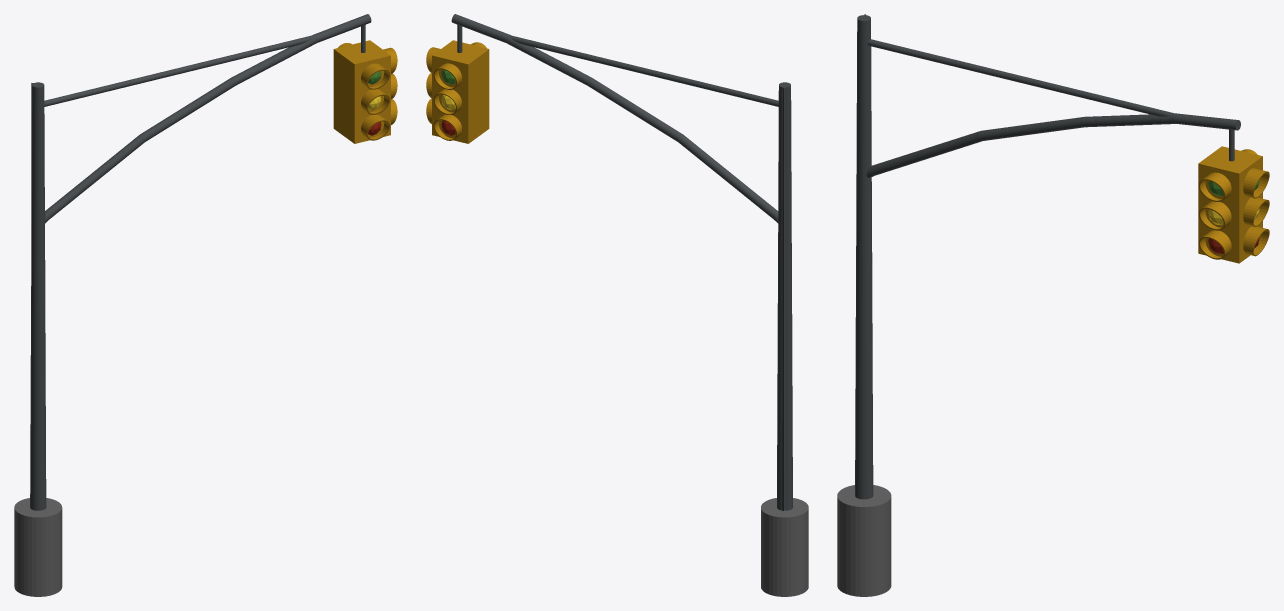
File: trafficlight.fbx
3 views of the same model, side by side, from view 1: azimuth 30°, elevation 25°; view 2: azimuth 150°, elevation 25°; view 3: azimuth 330°, elevation 25° (orthographic). The views are drawn at different scales.
Parts seen in each view (by area): view 1: Cylinder, Cube, Cylinder.001; view 2: Cylinder, Cube, Cylinder.001; view 3: Cylinder, Cube, Cylinder.001.
Part boxes in pixels (bbox=[...]): Cylinder: bbox=[30, 14, 371, 510]; Cube: bbox=[333, 40, 397, 143]; Cylinder.001: bbox=[14, 498, 62, 596]; Cylinder: bbox=[451, 14, 792, 510]; Cube: bbox=[426, 40, 489, 143]; Cylinder.001: bbox=[761, 498, 808, 596]; Cylinder: bbox=[855, 14, 1240, 499]; Cube: bbox=[1198, 146, 1269, 263]; Cylinder.001: bbox=[837, 485, 891, 596].
Size of the model in its own units: 396 by 506 by 65.93.
